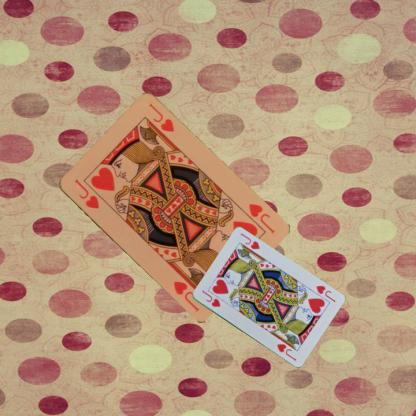Jh: (71, 176, 101, 210), (246, 201, 276, 235), (313, 283, 337, 304), (199, 287, 221, 309)
